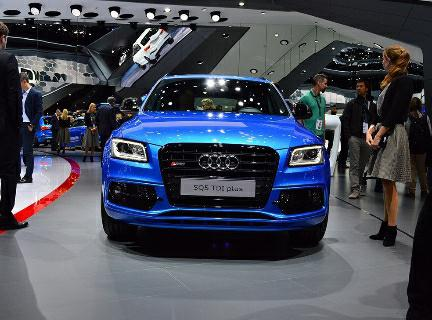奥迪-SQ5: (95, 71, 332, 250)
